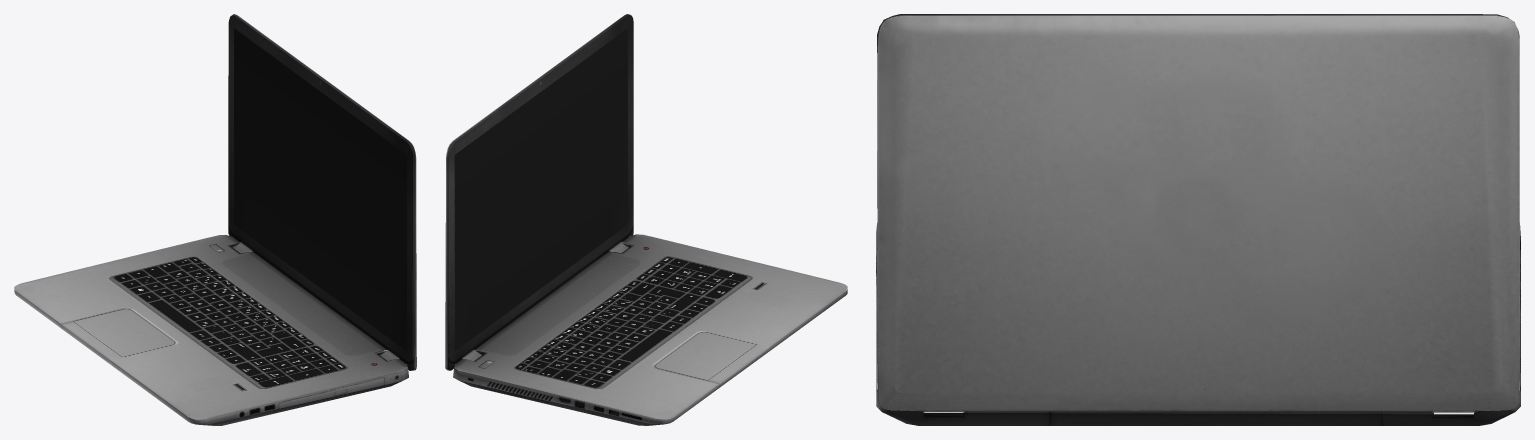
Rendered from notebook.glb.
3 renders of one model, left to right at view 1: azimuth 30°, elevation 25°; view 2: azimuth 150°, elevation 25°; view 3: azimuth 270°, elevation 25°, orthographic. The views are drawn at different scales.
Visible parts, largest first — view 1: Lowpoly_Notebook; view 2: Lowpoly_Notebook; view 3: Lowpoly_Notebook.
Boxes of the visible parts, bbox=[...] form: Lowpoly_Notebook: bbox=[14, 14, 416, 425]; Lowpoly_Notebook: bbox=[445, 14, 847, 425]; Lowpoly_Notebook: bbox=[876, 14, 1520, 425].
Size of the model in its own units: 2.29 by 2.34 by 3.27.
Materials: 2 (2 with a texture image).
